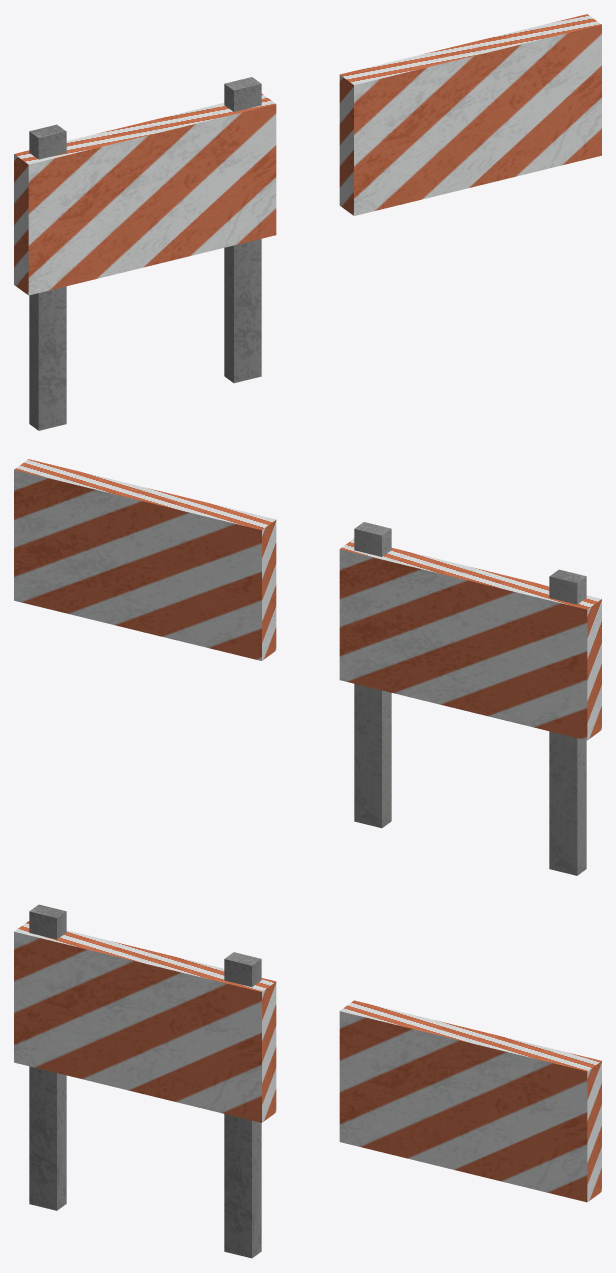
The model's file is Obstacle1.fbx.
3 renders of one model, top to bottom at view 1: azimuth 30°, elevation 25°; view 2: azimuth 150°, elevation 25°; view 3: azimuth 330°, elevation 25°, orthographic.
Visible parts, largest first — view 1: Cube.004, Cube, Cube.003; view 2: Cube.004, Cube, Cube.003; view 3: Cube.004, Cube, Cube.003.
Boxes of the visible parts, bbox=[...] form: Cube.004: bbox=[339, 14, 601, 215]; Cube: bbox=[14, 93, 276, 295]; Cube.003: bbox=[29, 77, 261, 430]; Cube.004: bbox=[14, 459, 276, 660]; Cube: bbox=[339, 538, 601, 740]; Cube.003: bbox=[354, 522, 586, 875]; Cube.004: bbox=[339, 1000, 601, 1202]; Cube: bbox=[14, 921, 276, 1122]; Cube.003: bbox=[29, 904, 261, 1258].
Size of the model in its own units: 463 by 226 by 20.42.
